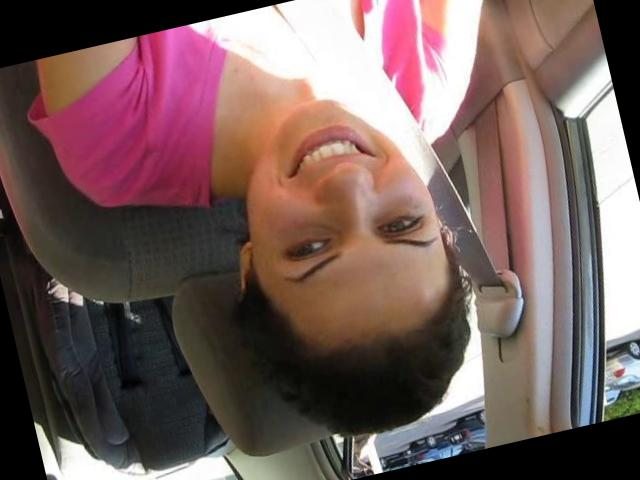eye_open: (372, 204, 429, 242), (280, 230, 336, 267)
face: (234, 74, 456, 303)
